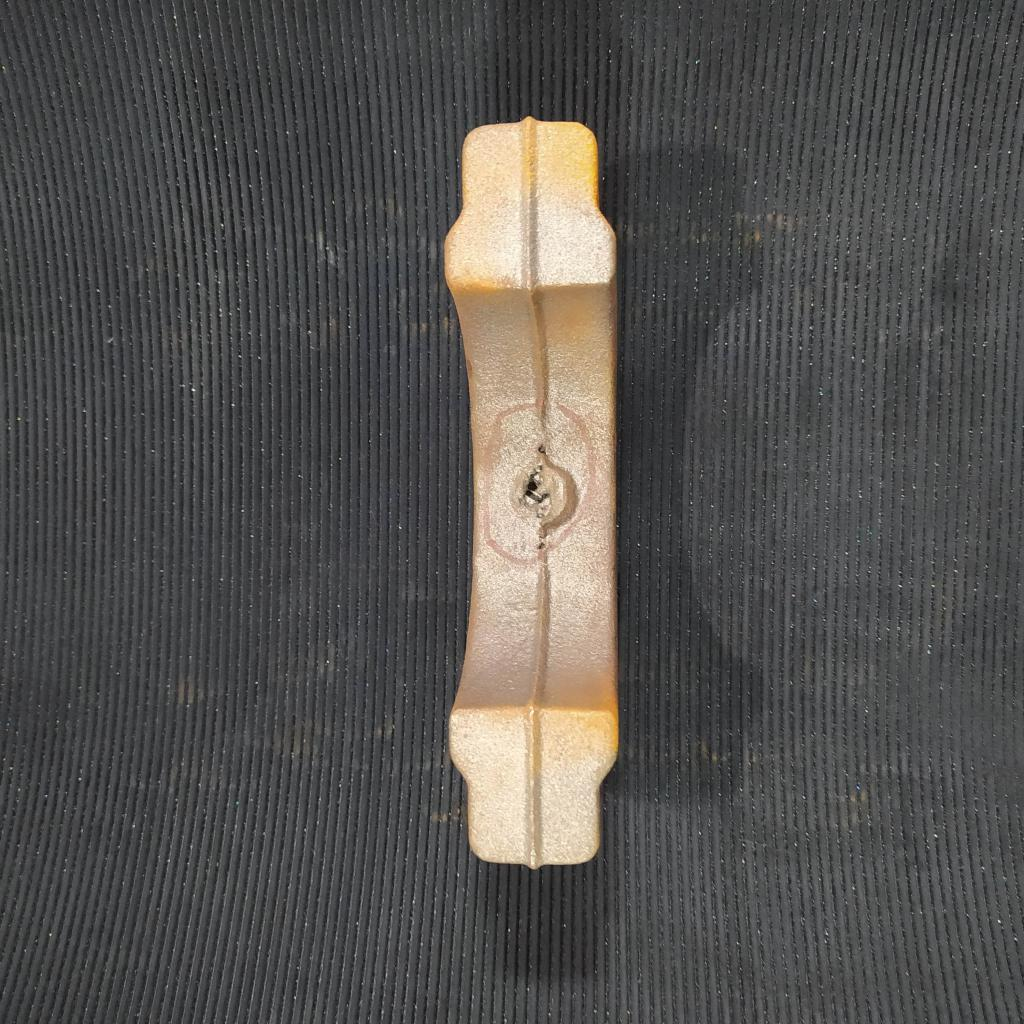buraco: (521, 470, 553, 517), (537, 441, 552, 460), (537, 541, 550, 554)
